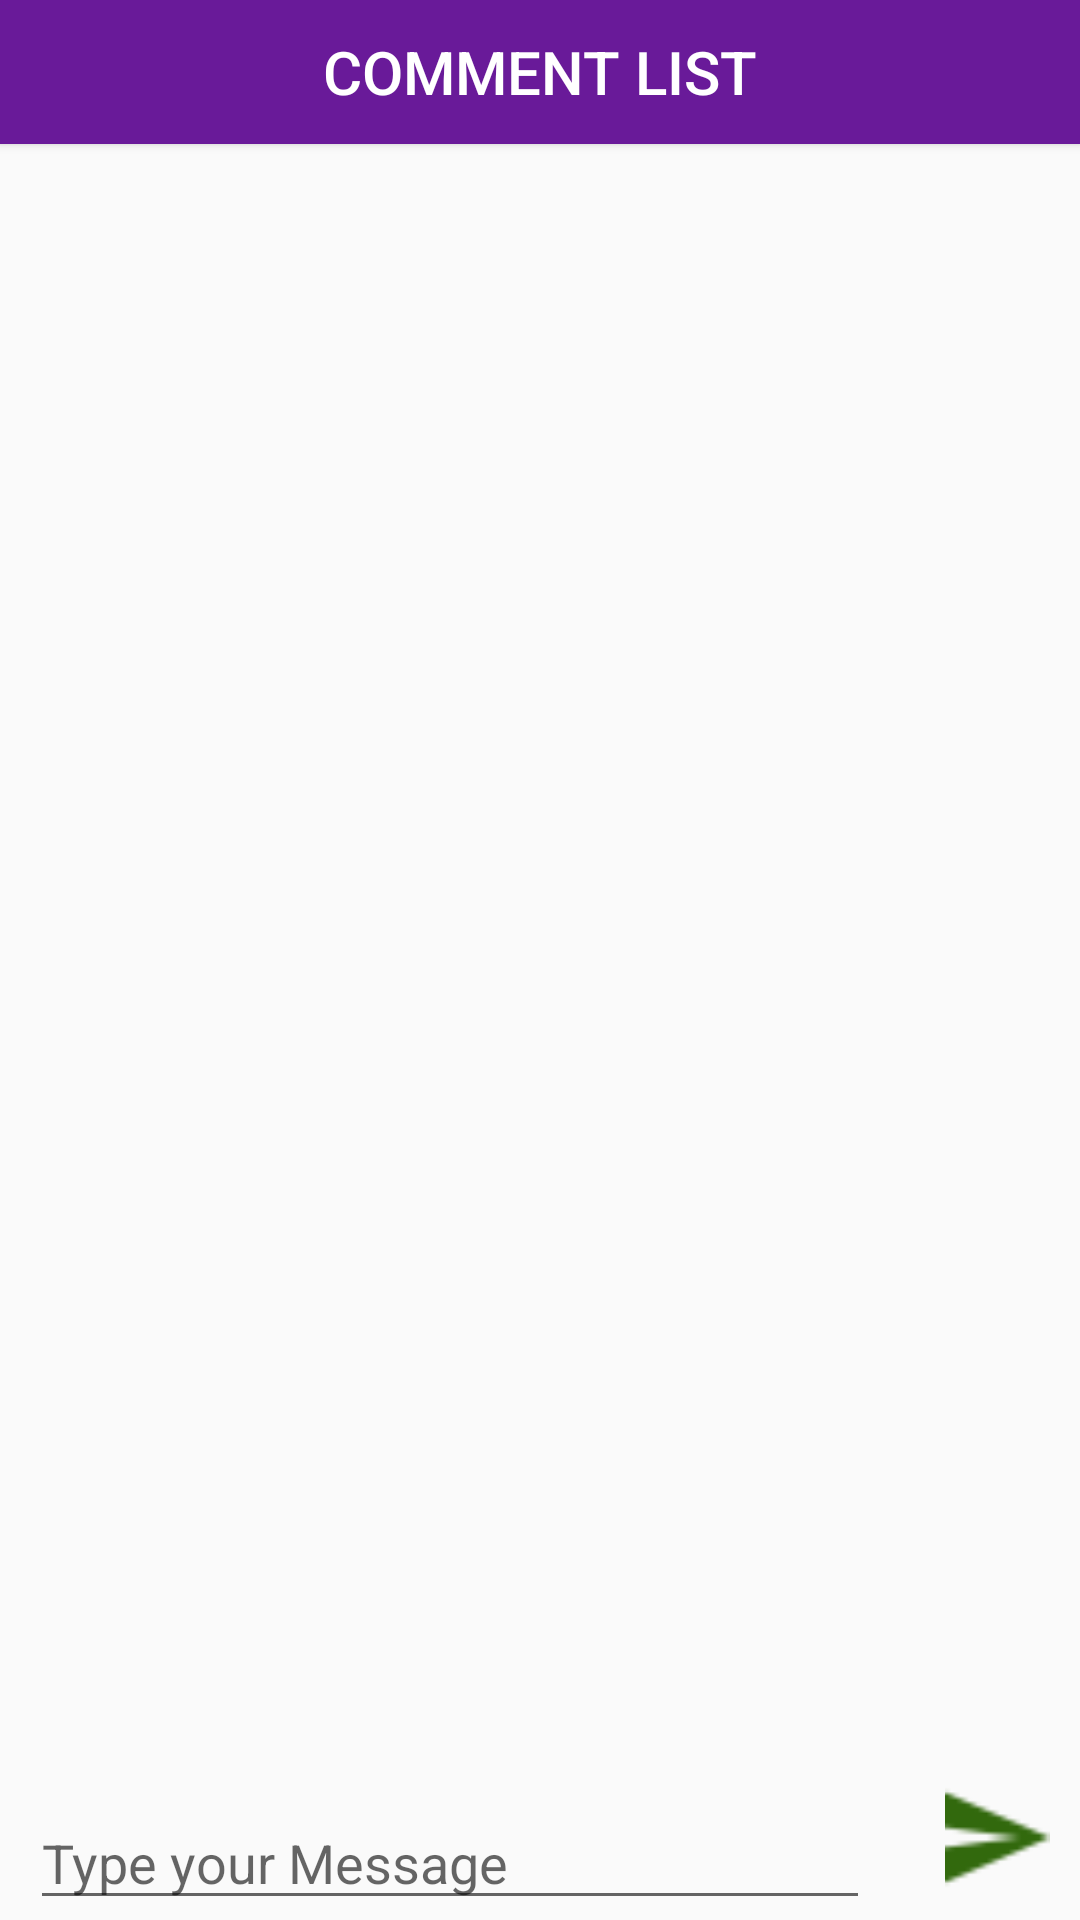

Icons on this 1080x1920 Android screen, each with the point to tap as [x,y]:
sendbutton: [997,1837]
